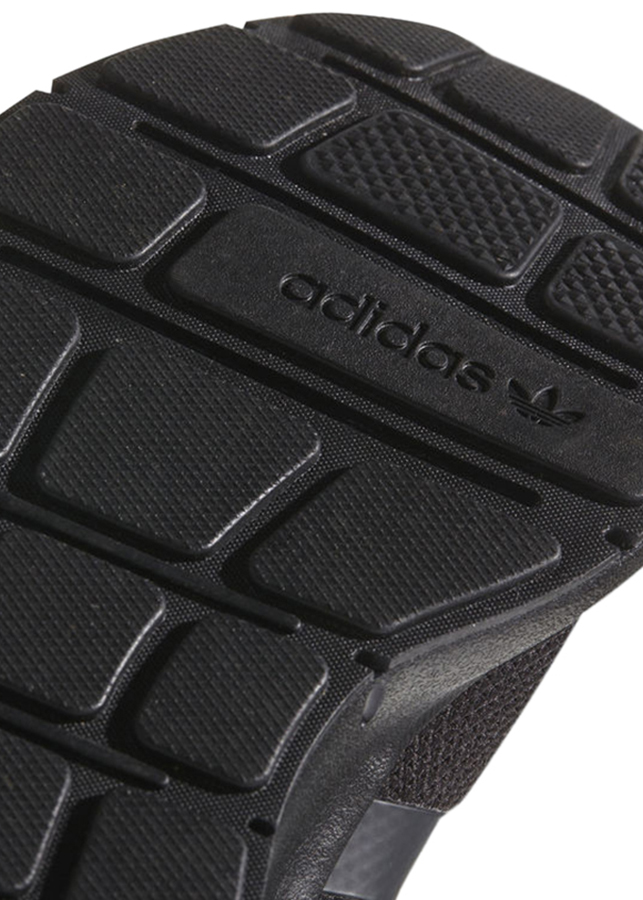Adidas: (269, 262, 597, 439)
